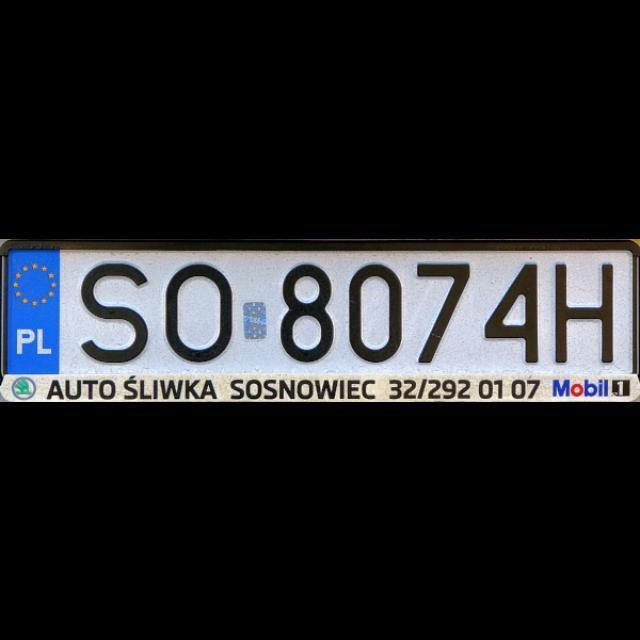license-plates: (0, 241, 640, 401)
